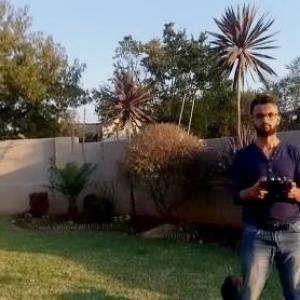follow: (218, 89, 299, 299)
